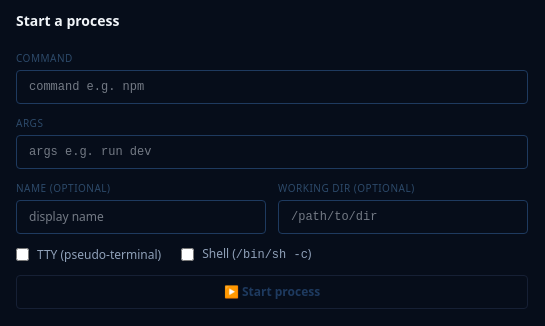
Test: ProcessStartForm › submit button is enabled when command is filled
Type "npm" into the field with placeholder "command e.g. npm" at coordinates (272, 87), box x1=16 y1=70 x2=528 y2=104
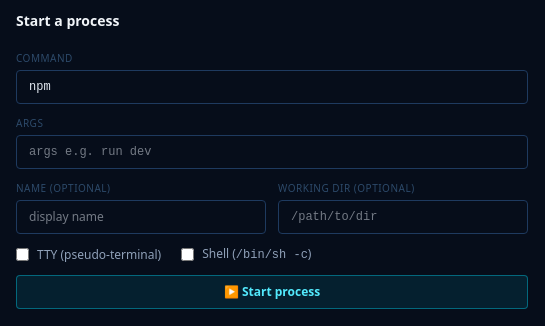
Check: the submit button is enabled, box x1=16 y1=275 x2=528 y2=309
